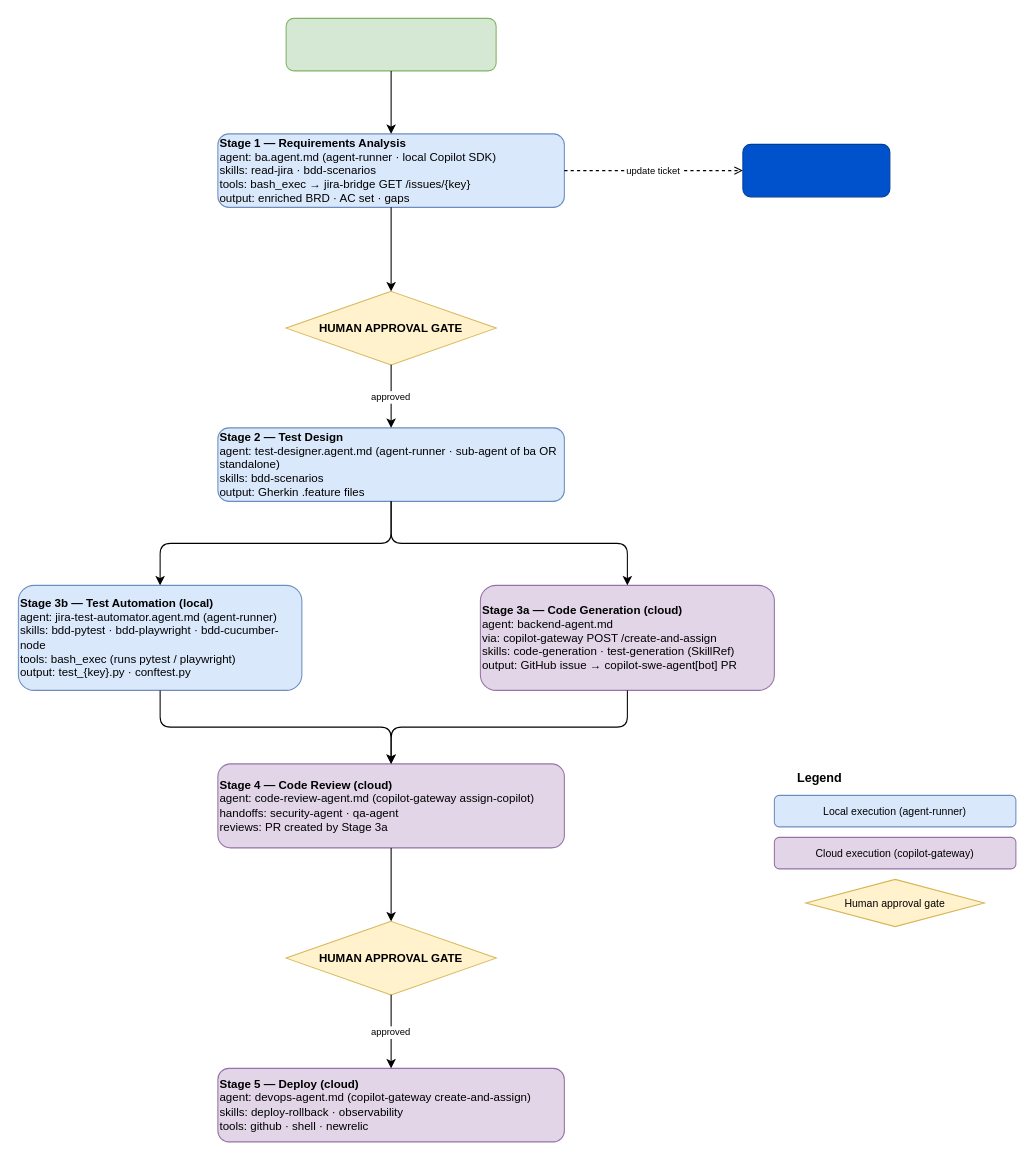
The diagram is 1034 pixels wide and 1160 high, and some of its shapes have lost their labels. The centre of each missing label's shape, as x and y in pixels:
"Jira (PATCH /issues/{key})" goes at (x=816, y=170).
"Jira Ticket (INPUT)" goes at (x=390, y=44).
